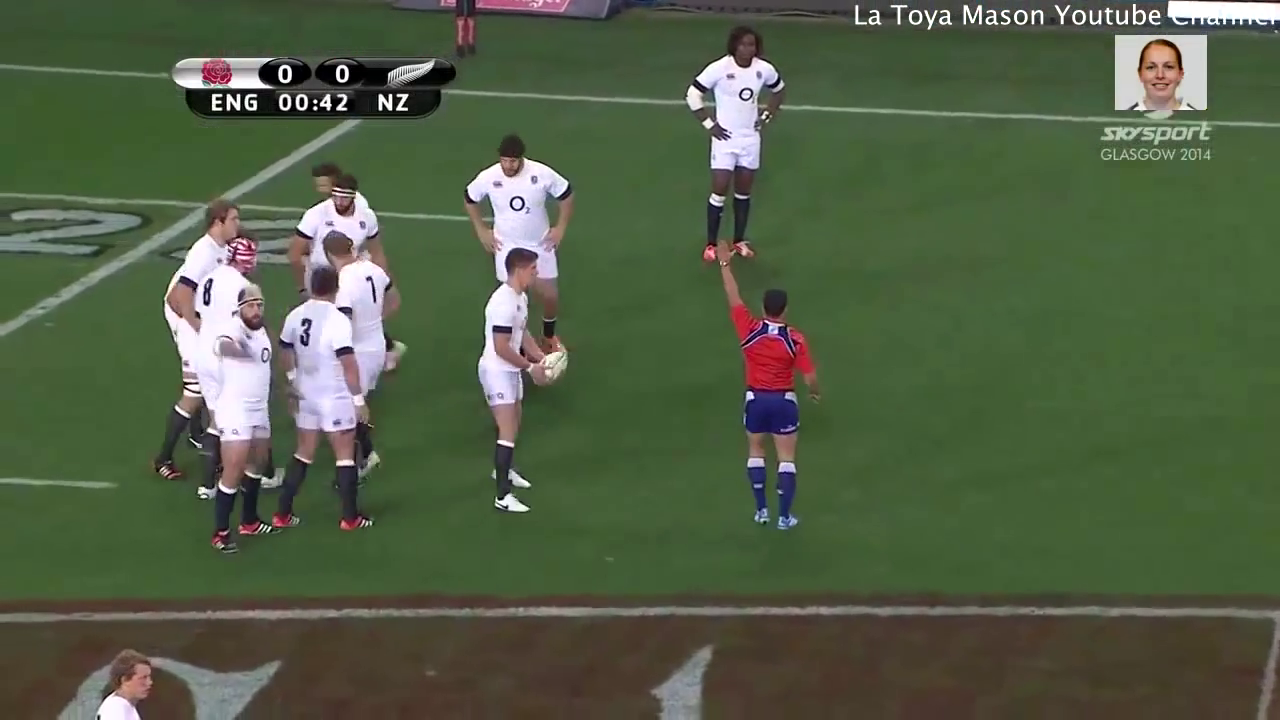ball: (525, 345, 575, 395)
corner_flag: (450, 1, 484, 61)
player: (710, 235, 826, 538), (265, 267, 379, 537), (455, 130, 577, 366), (145, 197, 242, 487), (682, 24, 793, 272), (201, 279, 286, 556), (473, 244, 551, 524), (196, 231, 264, 502), (319, 228, 391, 480), (286, 171, 391, 311), (90, 642, 166, 720)
